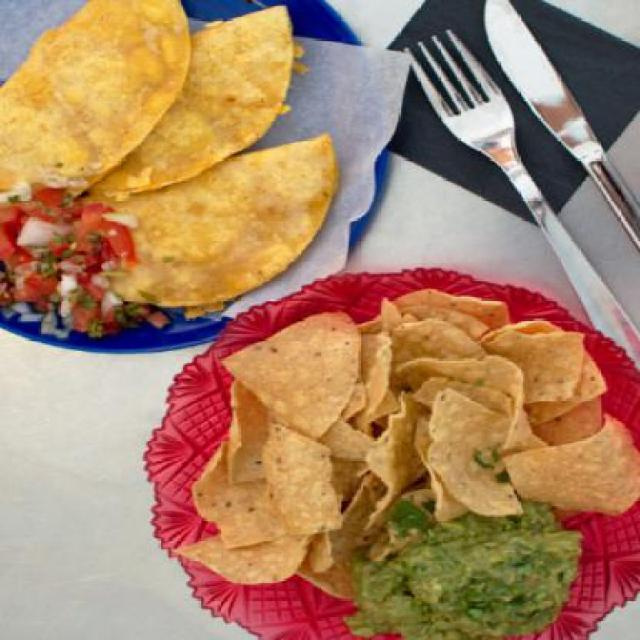guacamole: (353, 502, 578, 640)
nachos: (195, 290, 637, 578)
